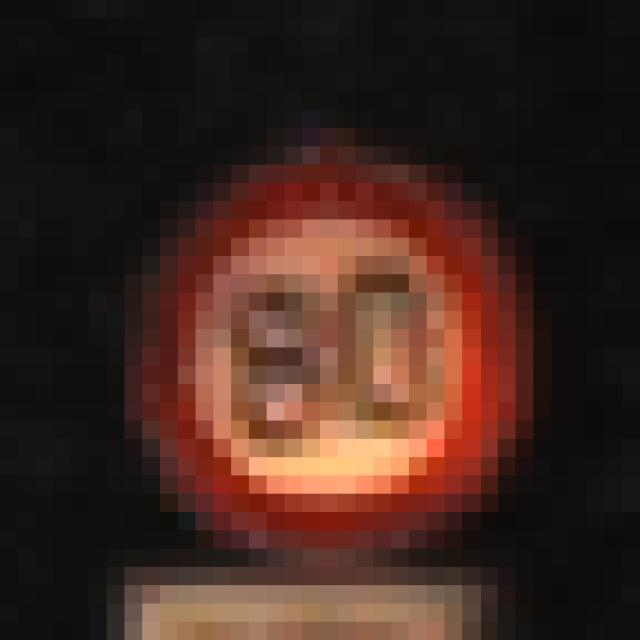Ograniczenie predkosci do 80: (146, 159, 513, 553)
